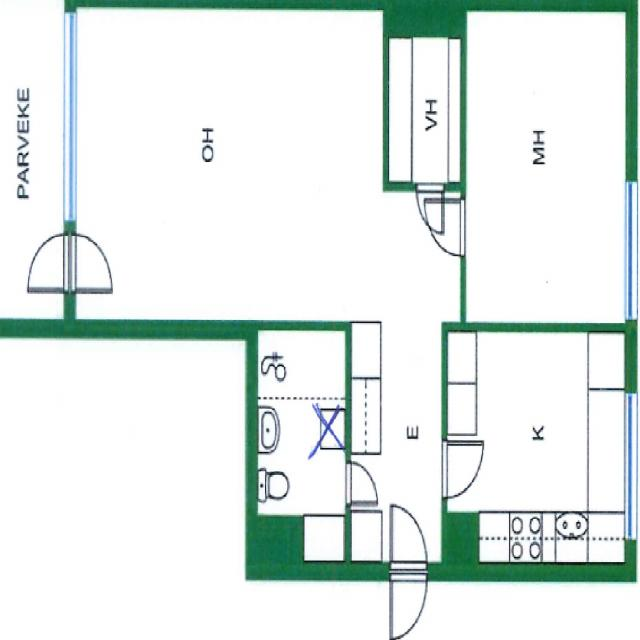door: (390, 502, 428, 582), (390, 561, 428, 640), (28, 235, 77, 292), (64, 235, 113, 292), (424, 199, 466, 256), (442, 440, 483, 497), (416, 182, 443, 236), (346, 462, 377, 503)
